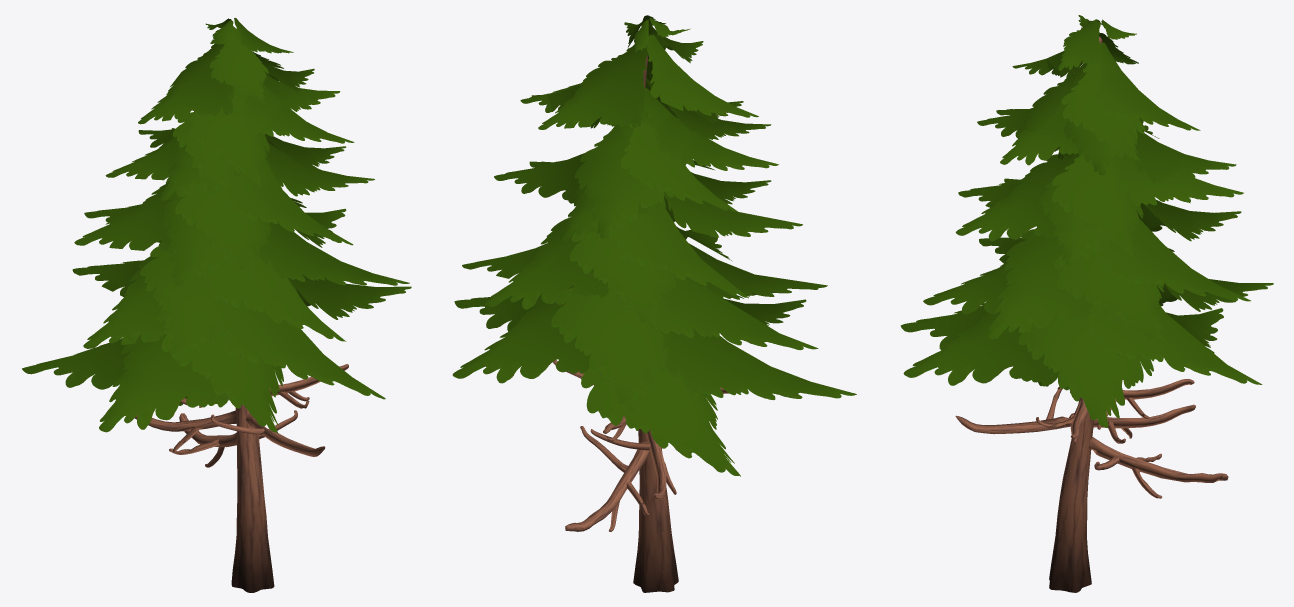
Rendered from pine-1.glb.
The picture shows the model from 3 angles, left to right: view 1: azimuth 30°, elevation 25°; view 2: azimuth 150°, elevation 25°; view 3: azimuth 270°, elevation 25°; orthographic projection. The views are drawn at different scales.
Visible parts, largest first — view 1: Pine_1; view 2: Pine_1; view 3: Pine_1.
Part boxes in pixels (box(x1,y1,x2,y2)): Pine_1: box(22, 18, 411, 592); Pine_1: box(452, 15, 856, 592); Pine_1: box(900, 15, 1273, 592).
Size of the model in its own units: 4.94 by 7.32 by 4.54.
Materials: 2 (2 with a texture image).
